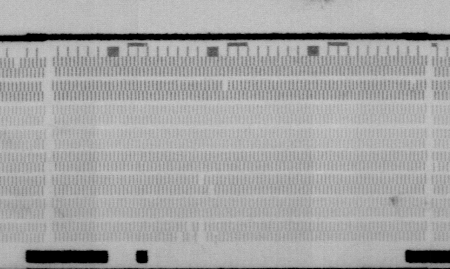Broken hole: (186, 221, 208, 243), (175, 232, 185, 245), (11, 58, 22, 69), (221, 79, 231, 90), (196, 174, 206, 184), (207, 185, 216, 196)
Oblique printing: (407, 79, 419, 95), (211, 232, 223, 246)
